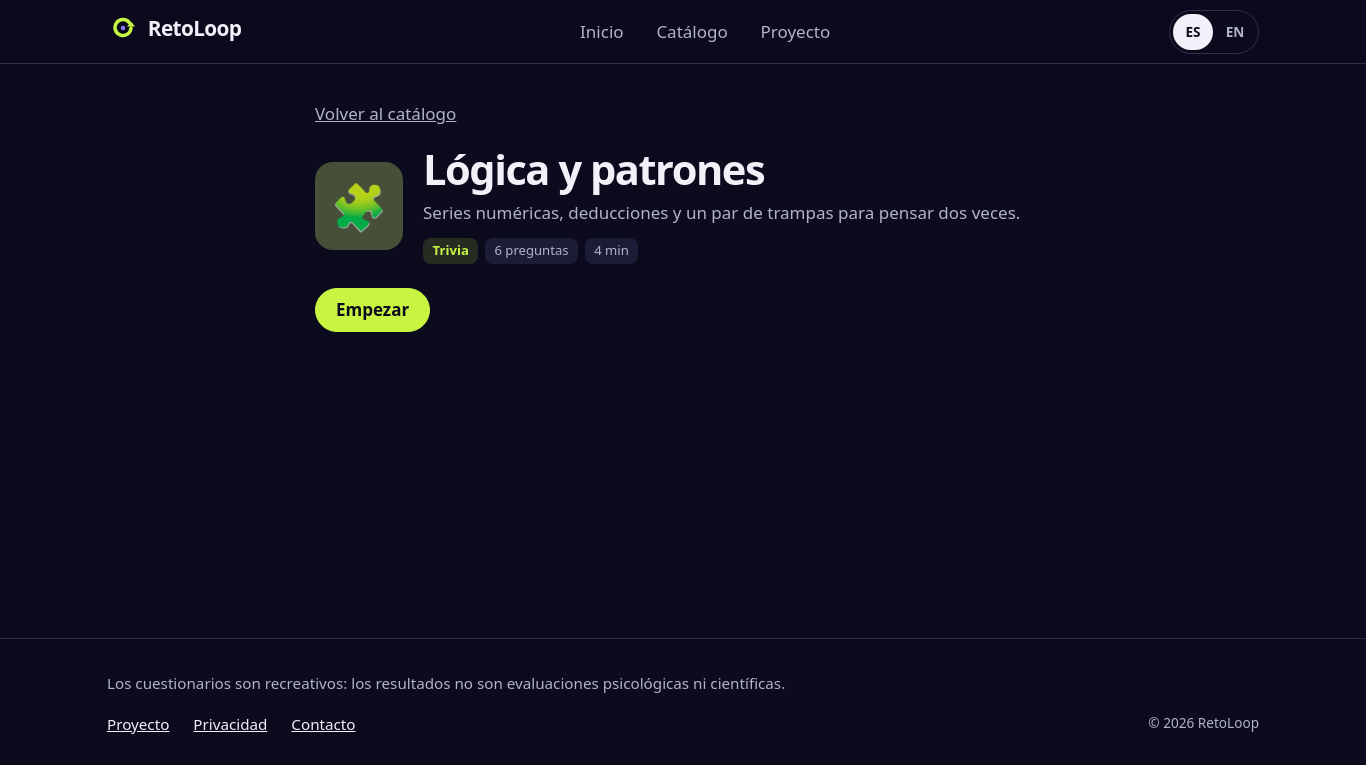
Test: cuestionario de trivia › permite volver a la pregunta anterior
Click the button "Empezar": (373, 310) [315,288,430,332]
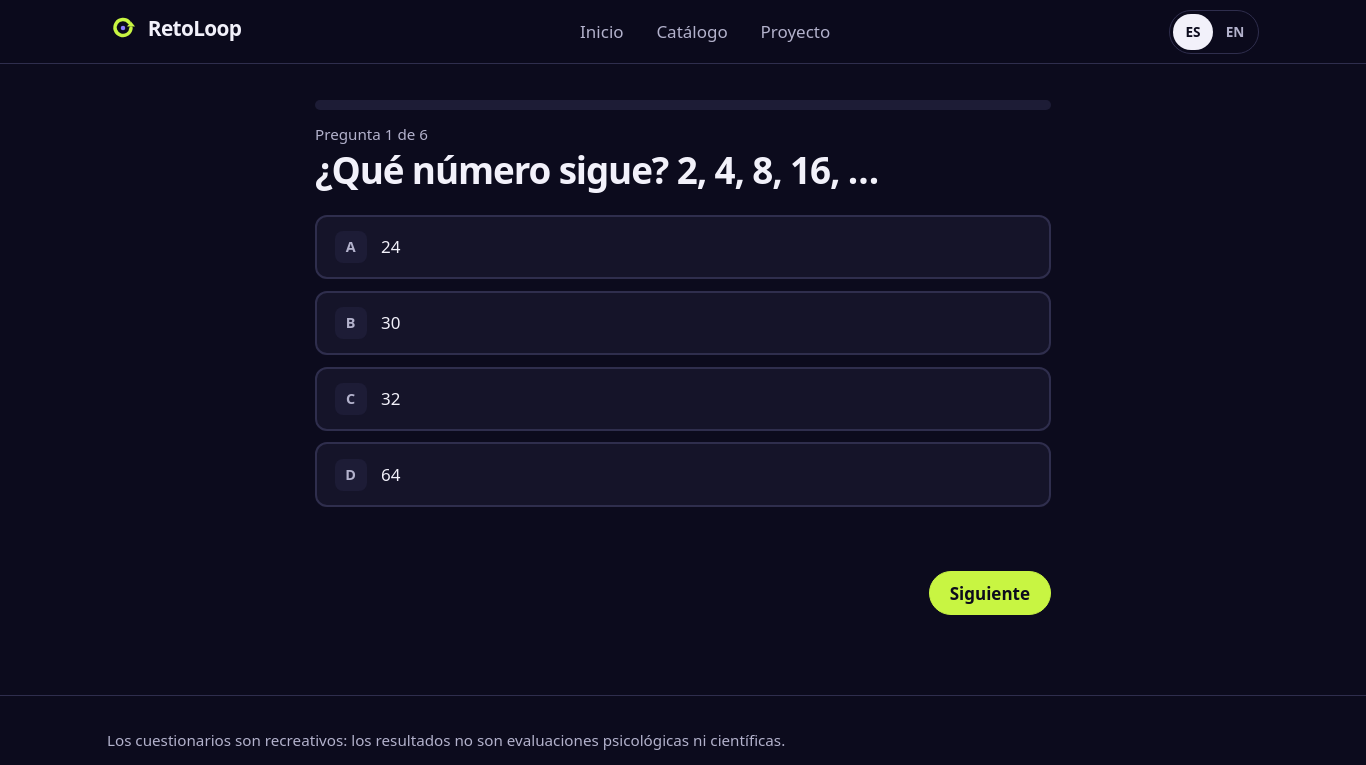
Expected: the button "Anterior" is not shown
Click the radio button labelled "32": (351, 399) [315,366,1051,431]
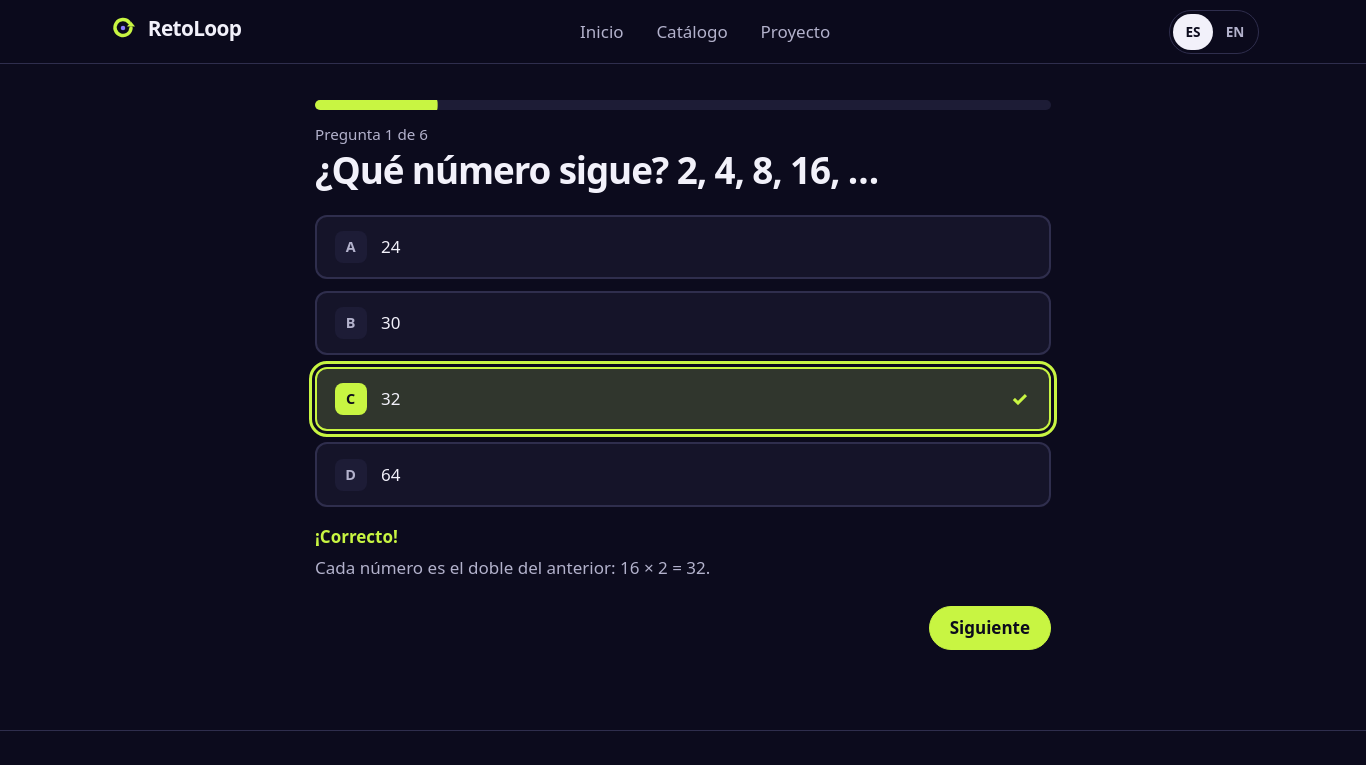
Click the button "Siguiente": (990, 628) [929,606,1051,650]
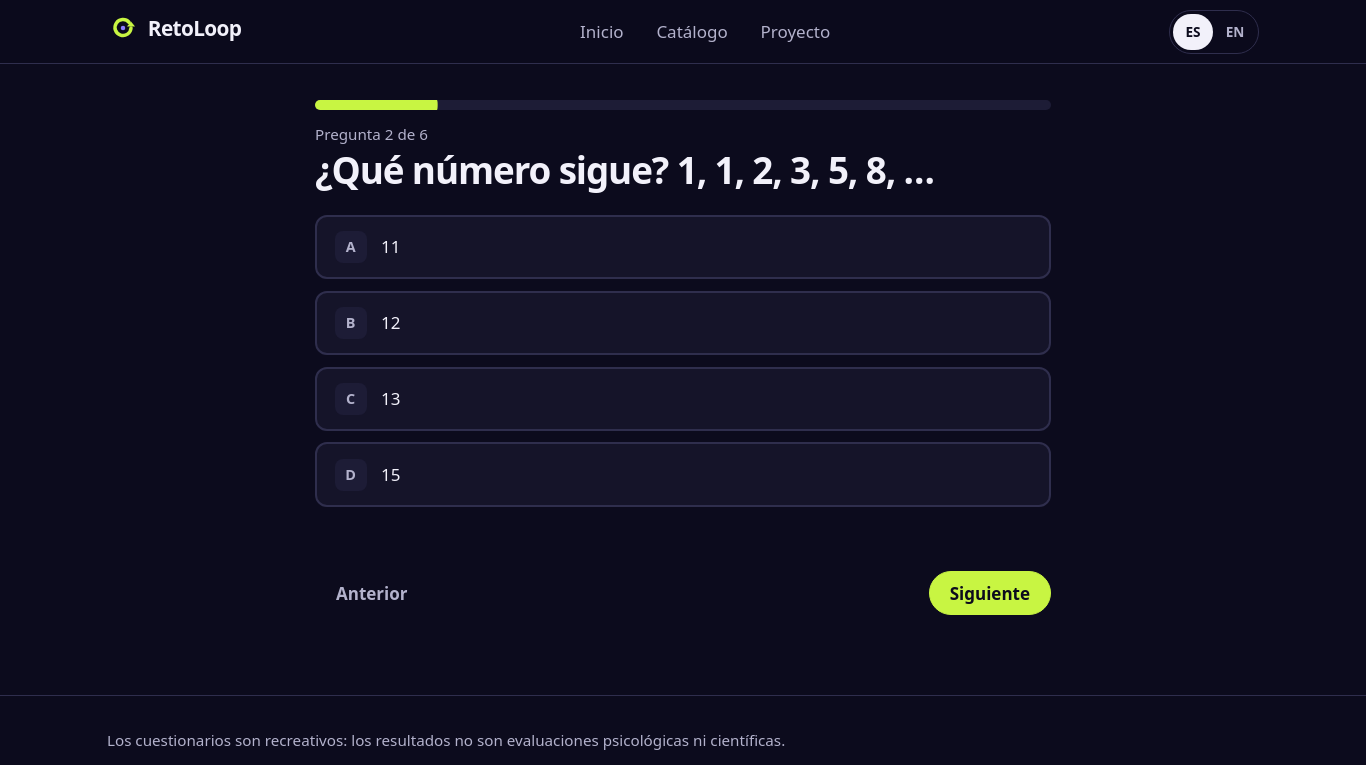
Result: the text "Pregunta 2 de 6" is shown at [315,124,428,144]
Click the button "Anterior": (372, 593) [315,571,428,615]
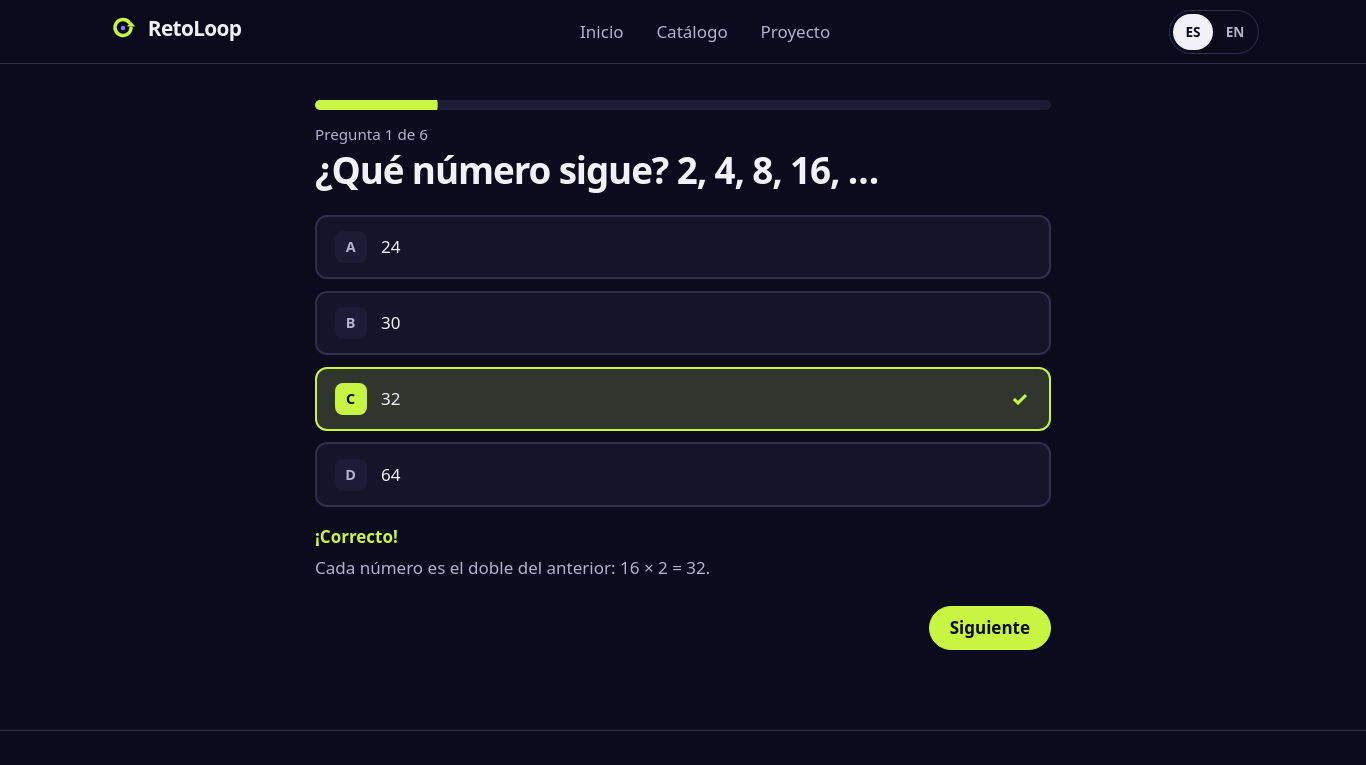
Result: the text "Pregunta 1 de 6" is shown at [315,124,428,144]
Result: the radio button labelled "32" is checked at [315,366,1051,431]
